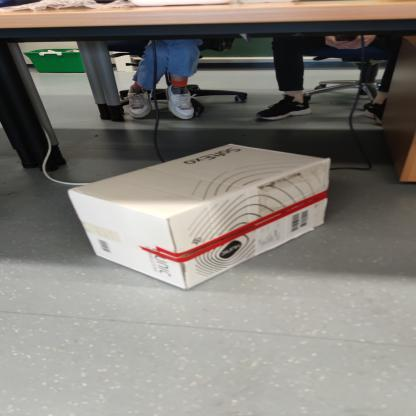-: (42, 128, 389, 284)
